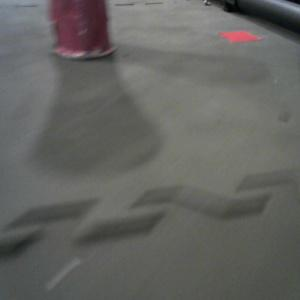middle: (49, 1, 118, 59)
